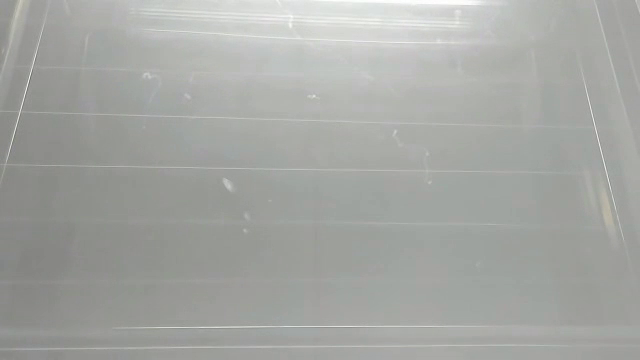alpha: (218, 175, 259, 224)
